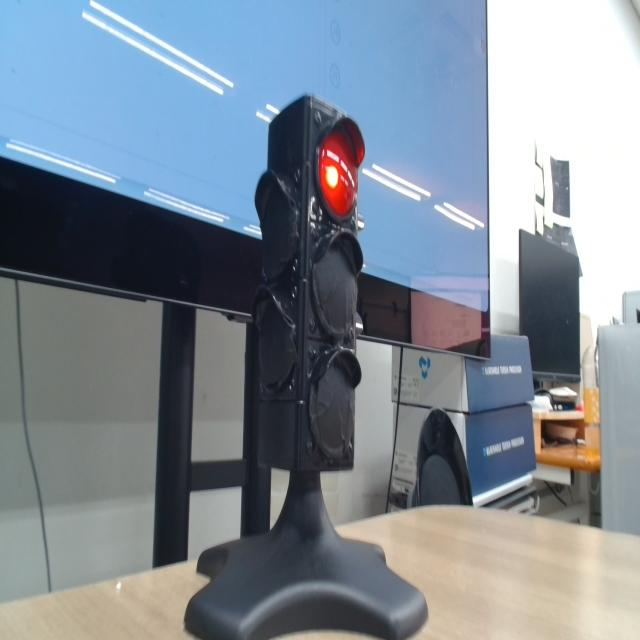red_light: (319, 130, 357, 219)
